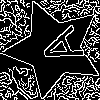A: (29, 23, 85, 73)
